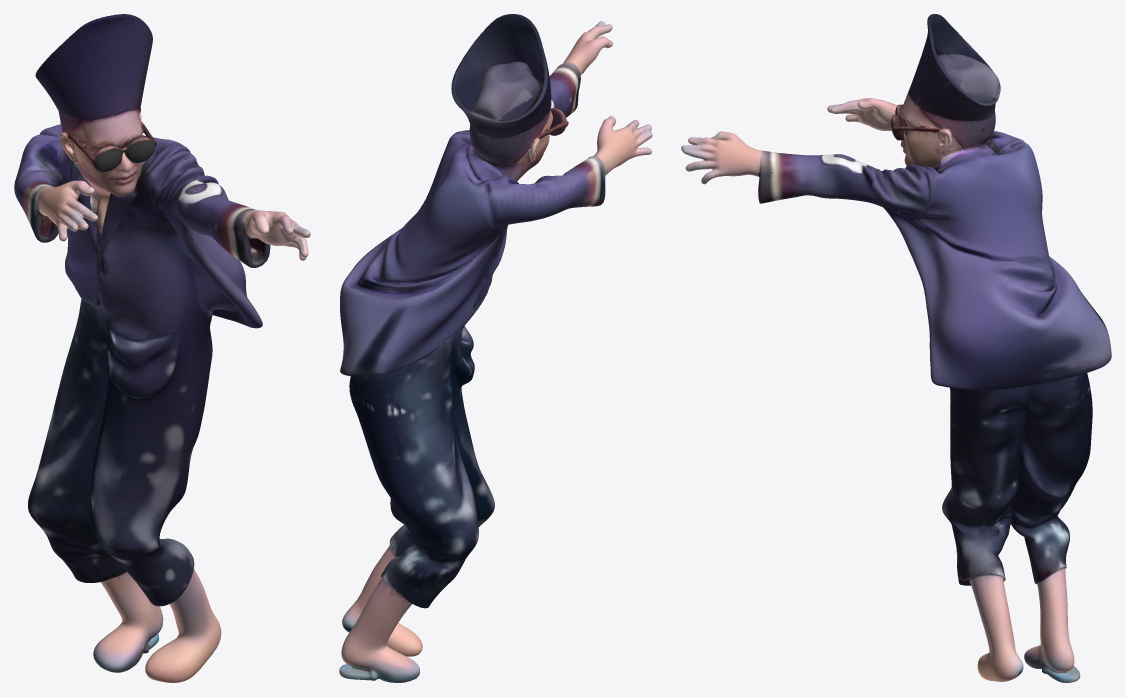
File: boat_boy_final.glb
3 renders of one model, left to right at view 1: azimuth 30°, elevation 25°; view 2: azimuth 150°, elevation 25°; view 3: azimuth 270°, elevation 25°, orthographic. The views are drawn at different scales.
Size of the model in its own units: 0.7085 by 1.9 by 1.2.
1 material, 1 textured.
